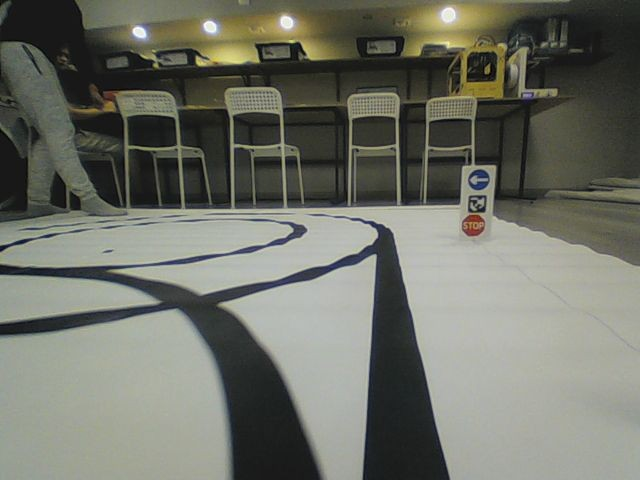Stop: (460, 213, 486, 237)
